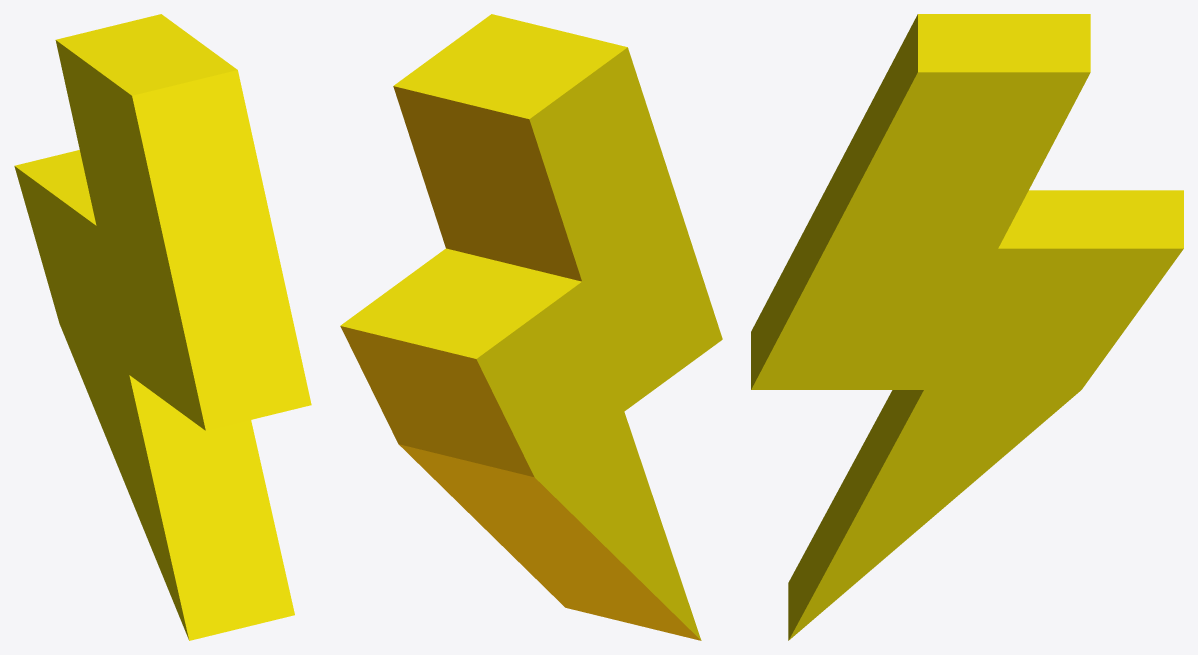
Rendered from Bolt.fbx.
3 renders of one model, left to right at view 1: azimuth 30°, elevation 25°; view 2: azimuth 150°, elevation 25°; view 3: azimuth 270°, elevation 25°, orthographic. The views are drawn at different scales.
Parts seen in each view (by area): view 1: Bolt; view 2: Bolt; view 3: Bolt.
Boxes of the visible parts, bbox=[...] form: Bolt: bbox=[14, 14, 311, 640]; Bolt: bbox=[340, 14, 722, 640]; Bolt: bbox=[751, 14, 1183, 640].
Size of the model in its own units: 50 by 227 by 157.
